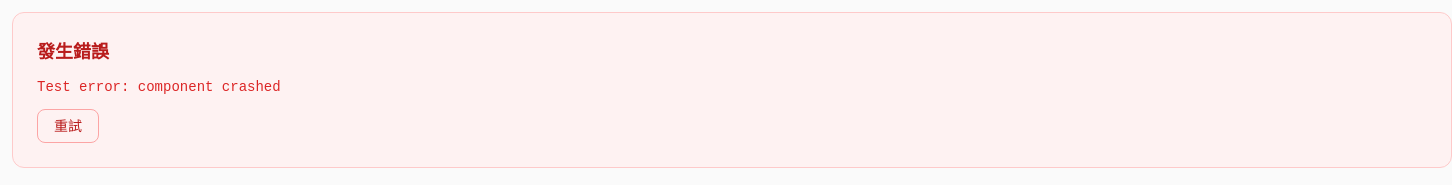
Test case: ErrorBoundary › renders children again after retry click
The image size is (1452, 185).
Expected: the heading "發生錯誤" is shown, [37, 39, 109, 63]
Click the button "重試": x=68, y=126 [37, 109, 99, 143]
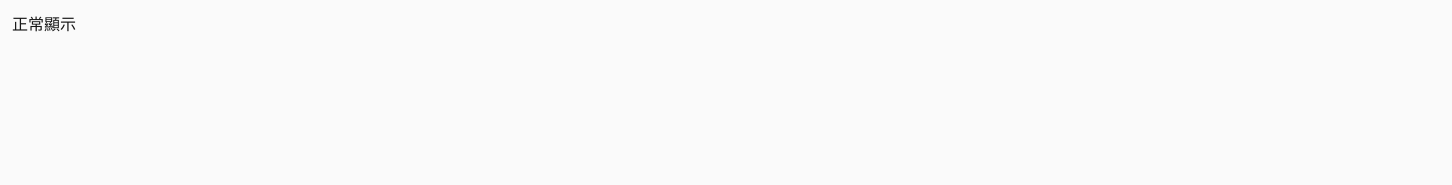
Result: the text "正常顯示" is shown at [12, 13, 76, 35]
